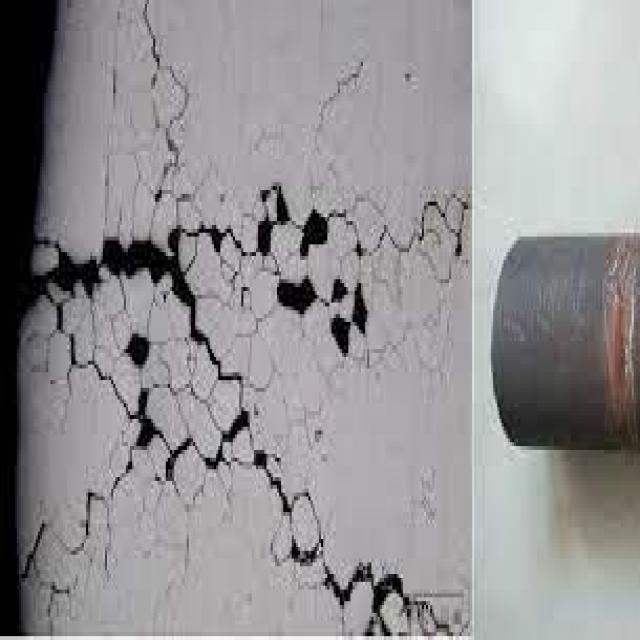Crack: (210, 178, 470, 346), (59, 302, 273, 500), (277, 457, 470, 640), (12, 217, 264, 334), (132, 4, 193, 233)
